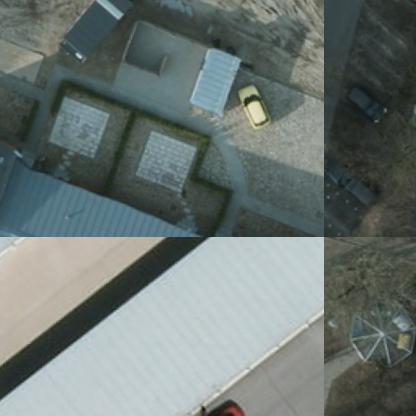car: (332, 70, 390, 128), (324, 155, 374, 203), (232, 78, 270, 130), (184, 393, 248, 415)
